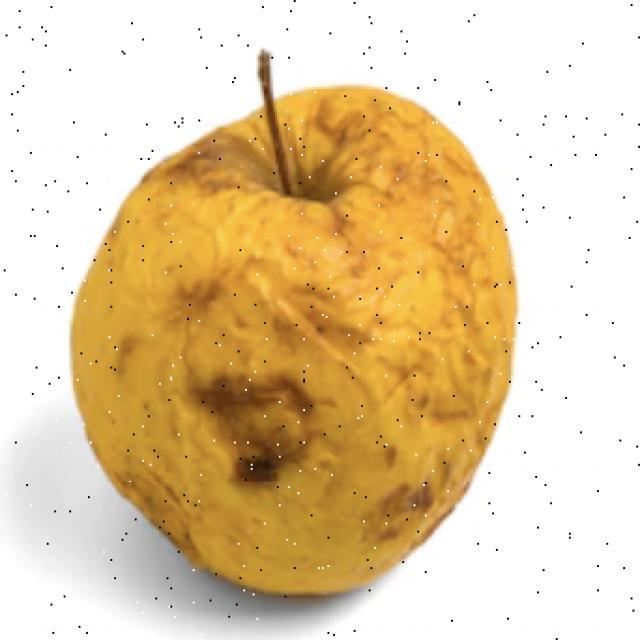Rotten: (83, 82, 520, 625)
